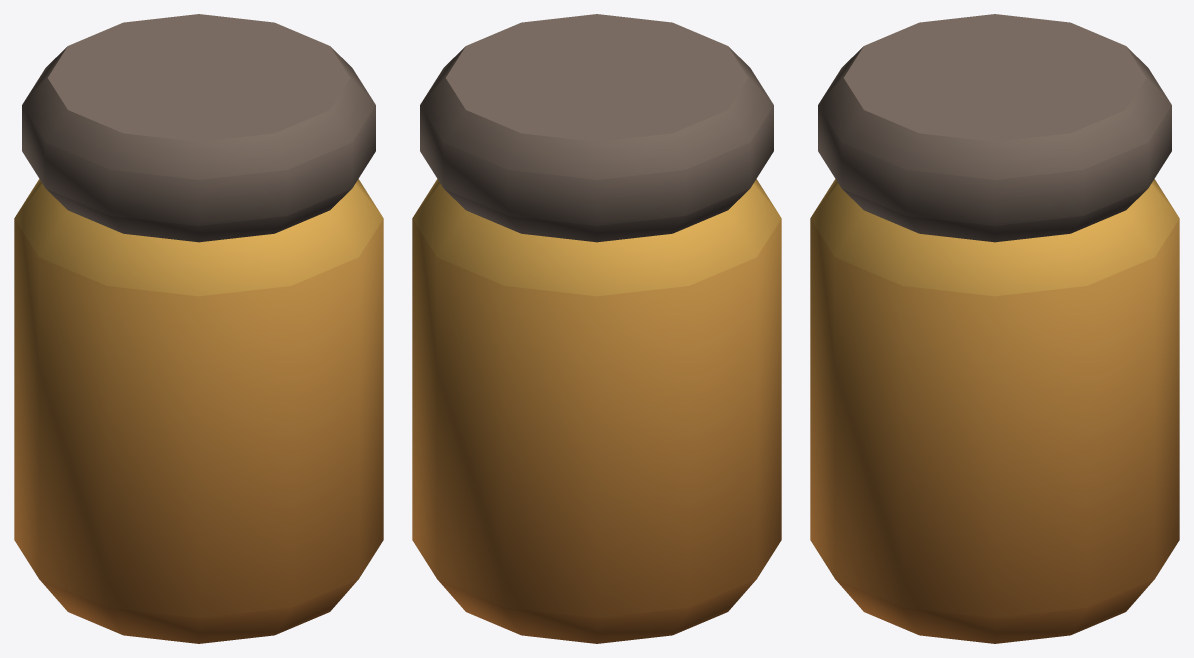
The model's file is jar_D_large.obj.
The picture shows the model from 3 angles, left to right: view 1: azimuth 30°, elevation 25°; view 2: azimuth 150°, elevation 25°; view 3: azimuth 270°, elevation 25°; orthographic projection.
Visible parts, largest first — view 1: jar_D_large_Cylinder.260; view 2: jar_D_large_Cylinder.260; view 3: jar_D_large_Cylinder.260.
Part boxes in pixels (<box>): jar_D_large_Cylinder.260: <box>14,14,383,643</box>; jar_D_large_Cylinder.260: <box>412,14,781,643</box>; jar_D_large_Cylinder.260: <box>810,14,1179,643</box>.
Bounding box in the file's own units: 0.5 × 0.75 × 0.5.
Materials: 1 (1 with a texture image).
